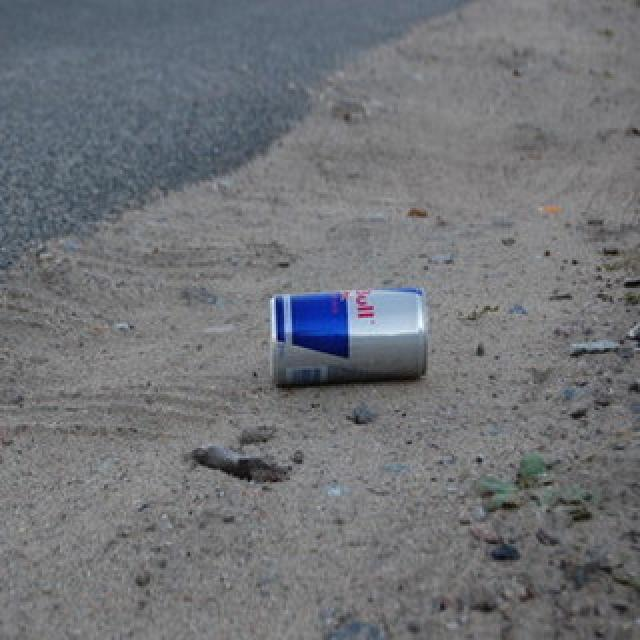recyclable: (268, 288, 430, 376)
